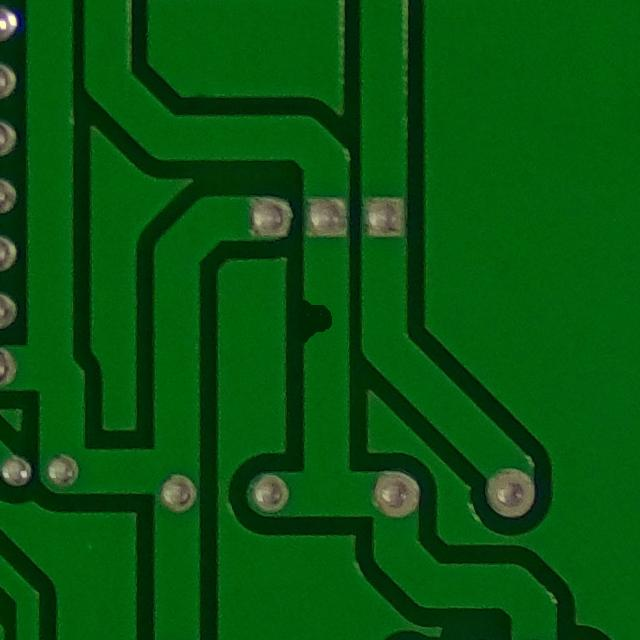mouse_bite: (297, 282, 344, 359)
